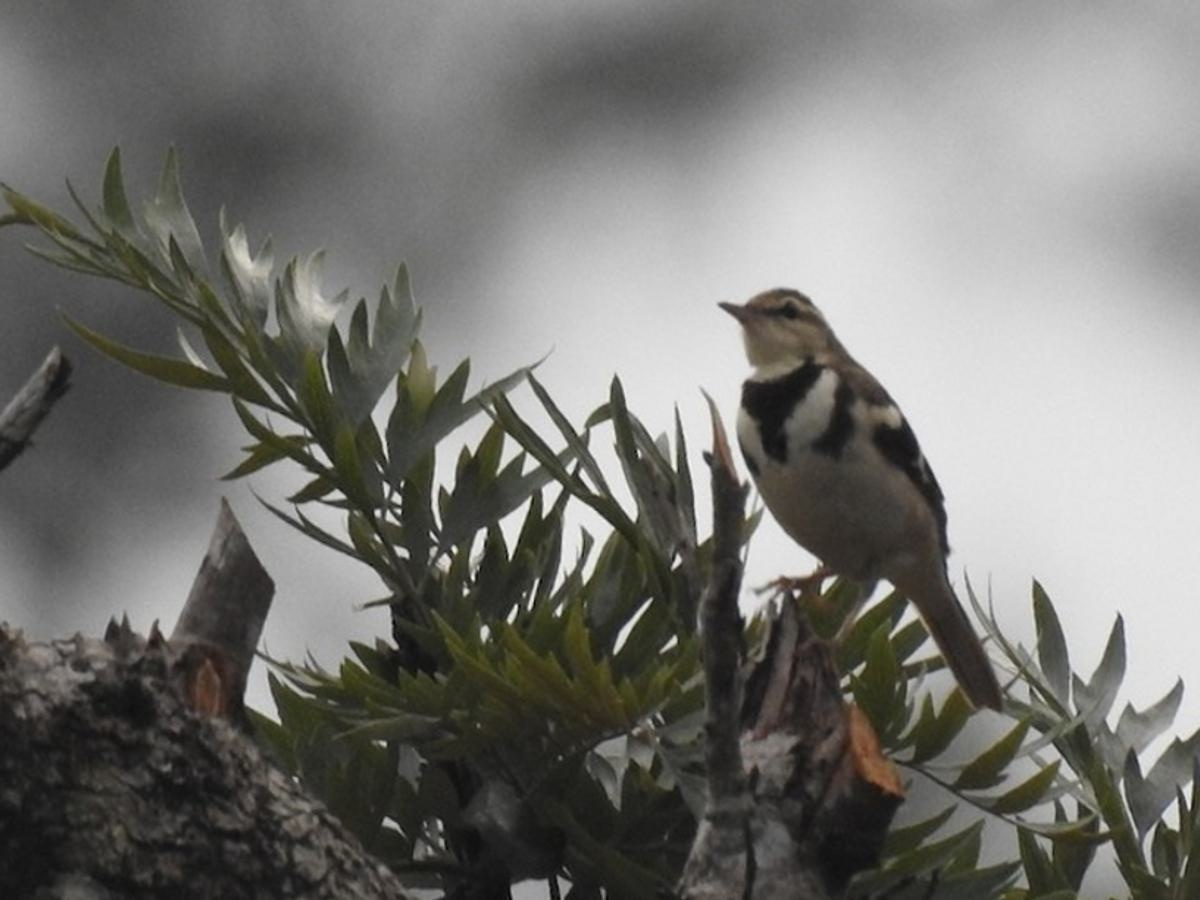wagtail: (698, 270, 1043, 733)
